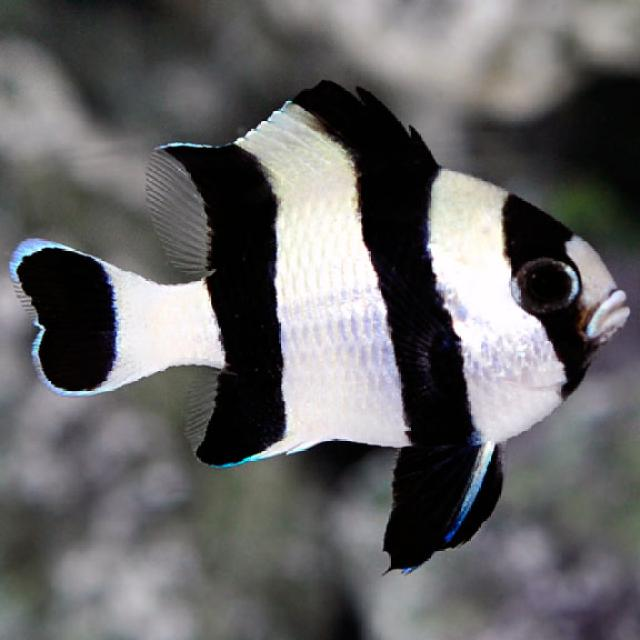ThreeStripedDamselfish: (9, 81, 631, 576)
